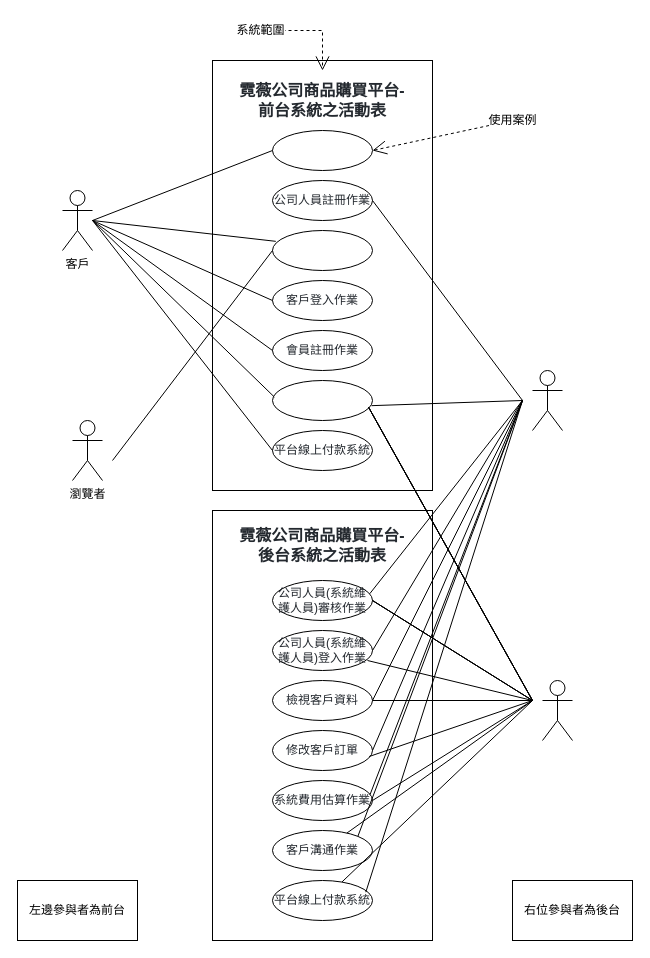
Some shapes in this 650 by 958 pixel diagram are drawn without their labels. Each missing label, with the box of its shape:
公司人員: (532, 370, 562, 430)
客戶註冊作業: (272, 130, 372, 170)
平台溝通作業: (272, 380, 372, 420)
產品查詢作業: (272, 230, 372, 270)
系統維護員: (542, 680, 572, 740)
